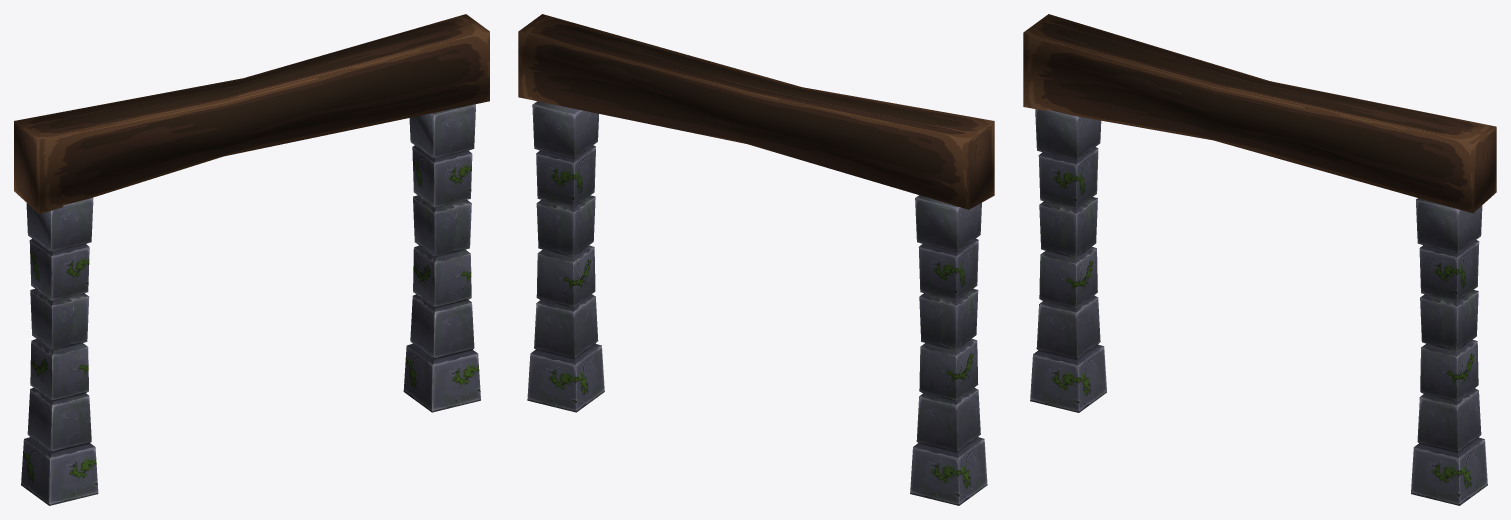
The model's file is finish_line.glb.
3 views of the same model, side by side, from view 1: azimuth 30°, elevation 25°; view 2: azimuth 150°, elevation 25°; view 3: azimuth 330°, elevation 25° (orthographic).
Visible parts, largest first — view 1: MOD_Column_01_large_2, MOD_Column_01_large, MOD_Column_01_large.001; view 2: MOD_Column_01_large_2, MOD_Column_01_large, MOD_Column_01_large.001; view 3: MOD_Column_01_large_2, MOD_Column_01_large, MOD_Column_01_large.001.
Part boxes in pixels (x1,y1,x2,y2): MOD_Column_01_large_2: (14,14,489,214); MOD_Column_01_large: (403,104,480,412); MOD_Column_01_large.001: (21,197,98,505); MOD_Column_01_large_2: (518,14,994,209); MOD_Column_01_large: (527,101,604,412); MOD_Column_01_large.001: (910,195,987,505); MOD_Column_01_large_2: (1023,14,1496,213); MOD_Column_01_large: (1411,198,1487,505); MOD_Column_01_large.001: (1030,109,1106,412).
Size of the model in its own units: 9.43 by 7.34 by 1.03.
Materials: 2 (2 with a texture image).
